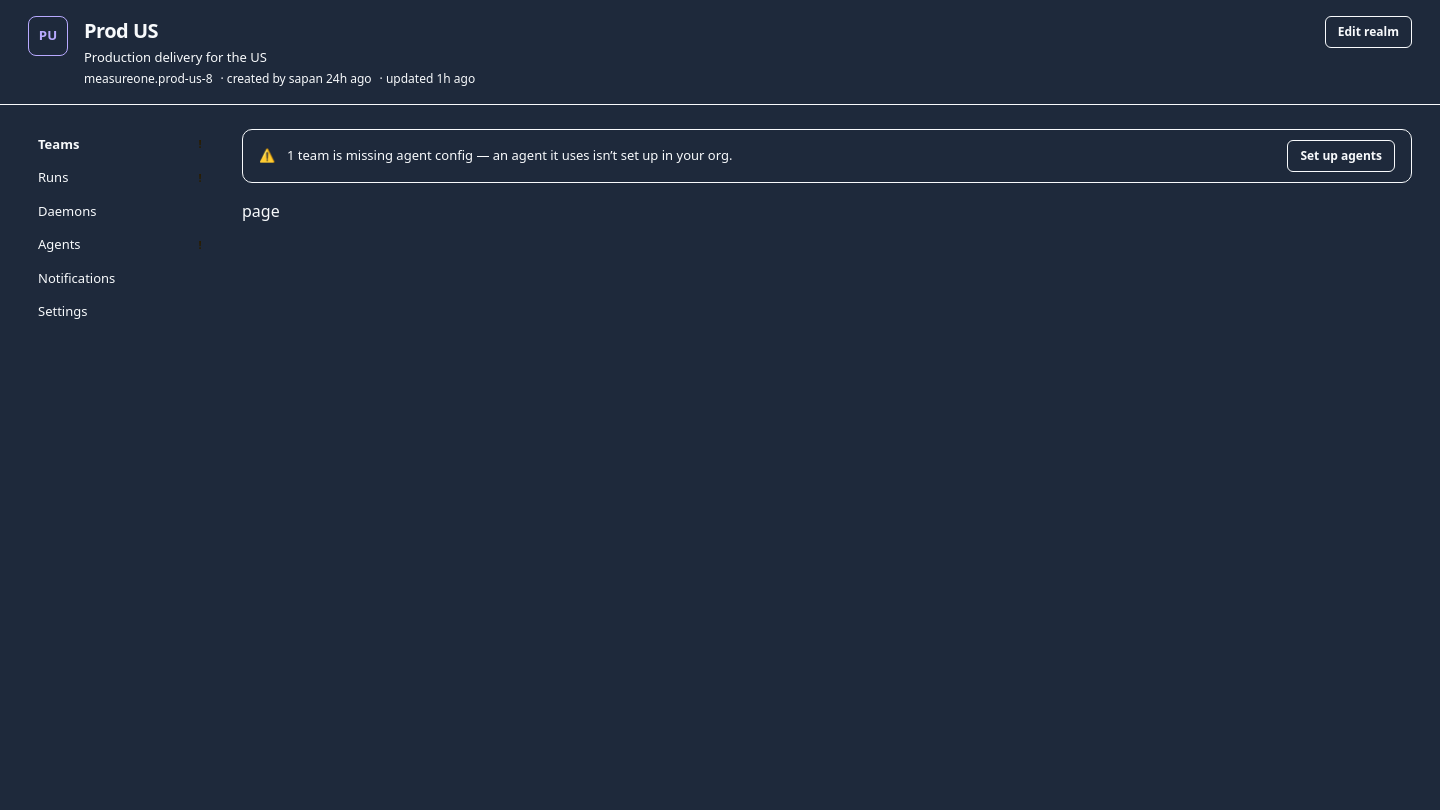
Test case: Realm layout › Edit realm opens the Realm details side panel: name and description saved together in one realms/update
Click the button "Edit realm".
click(1368, 32)  # box [1325,16,1412,48]
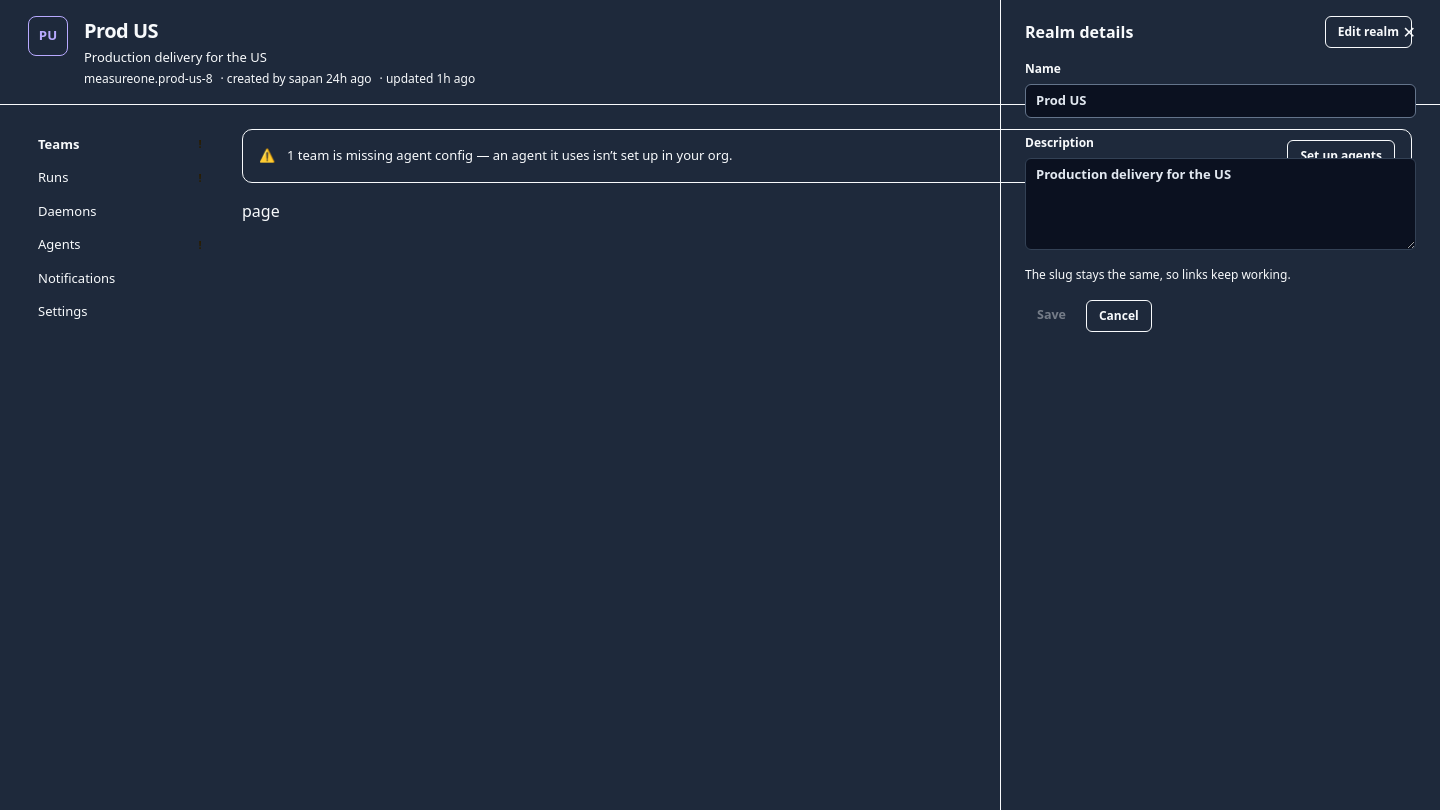
Replace the text in the field labelled "Name" with "Production US" at (1220, 101), box [1025,84,1416,118]
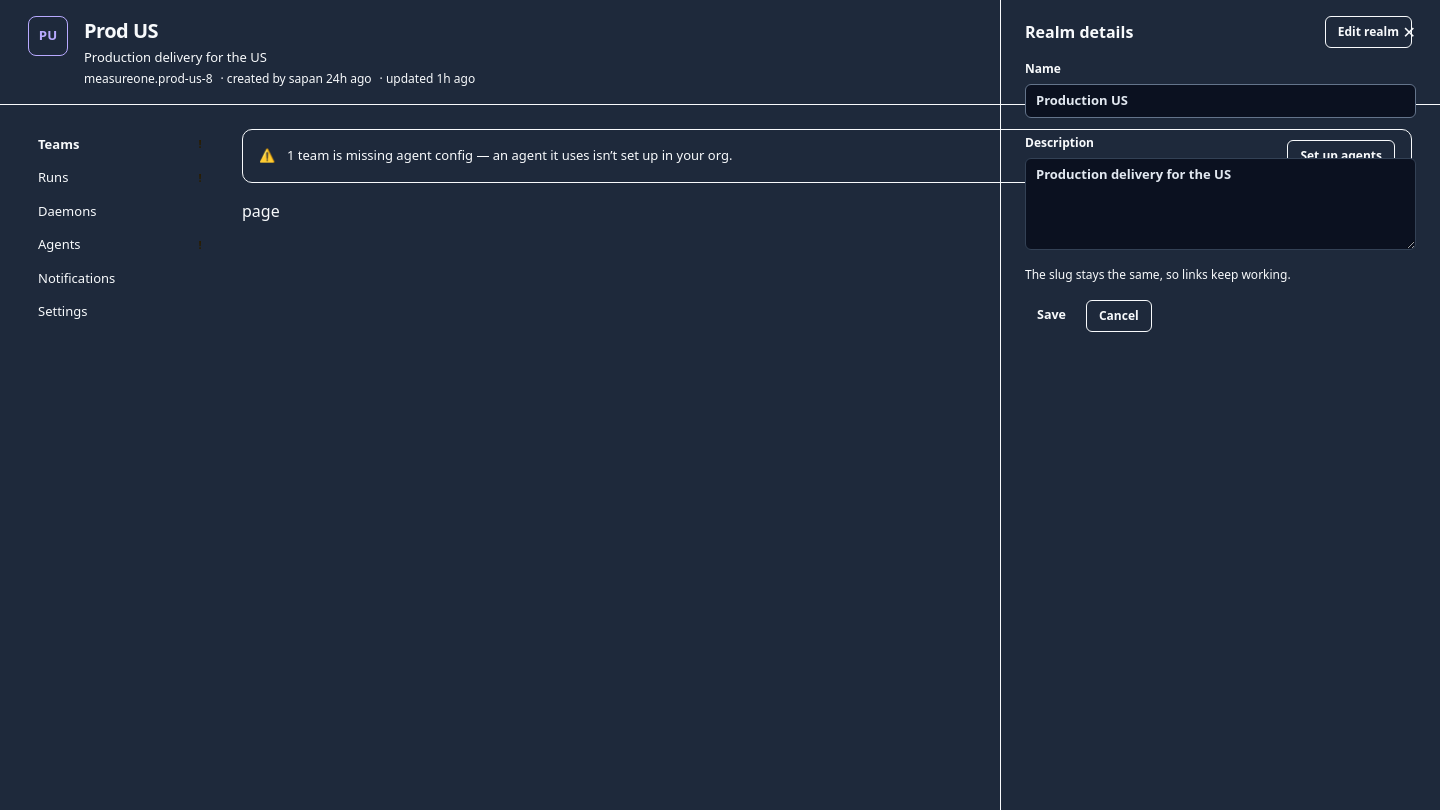
Replace the text in the text box labelled "Description" with "US delivery" at (1220, 204), box [1025,158,1416,250]
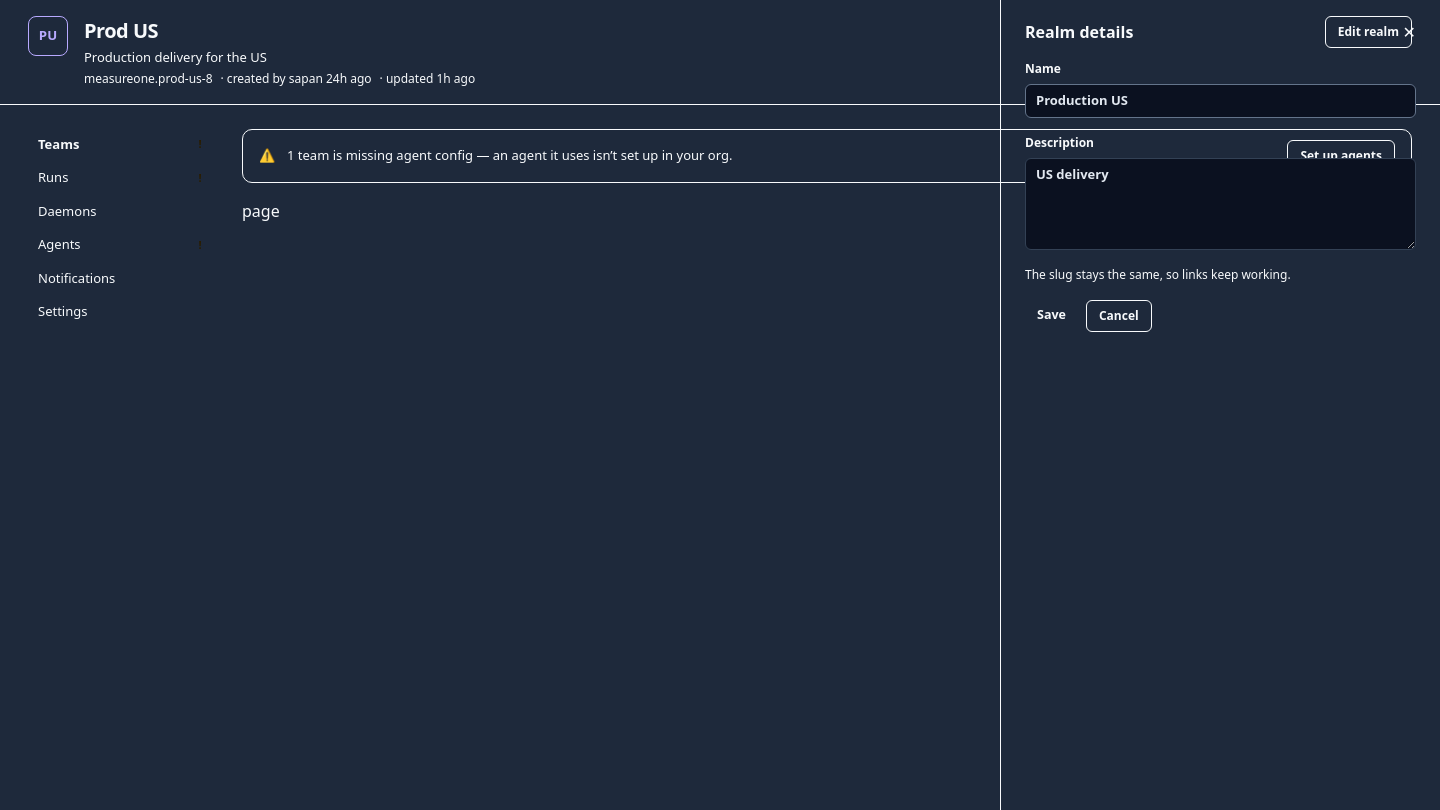
Click the button "Save".
click(1052, 316)  # box [1025,300,1078,332]
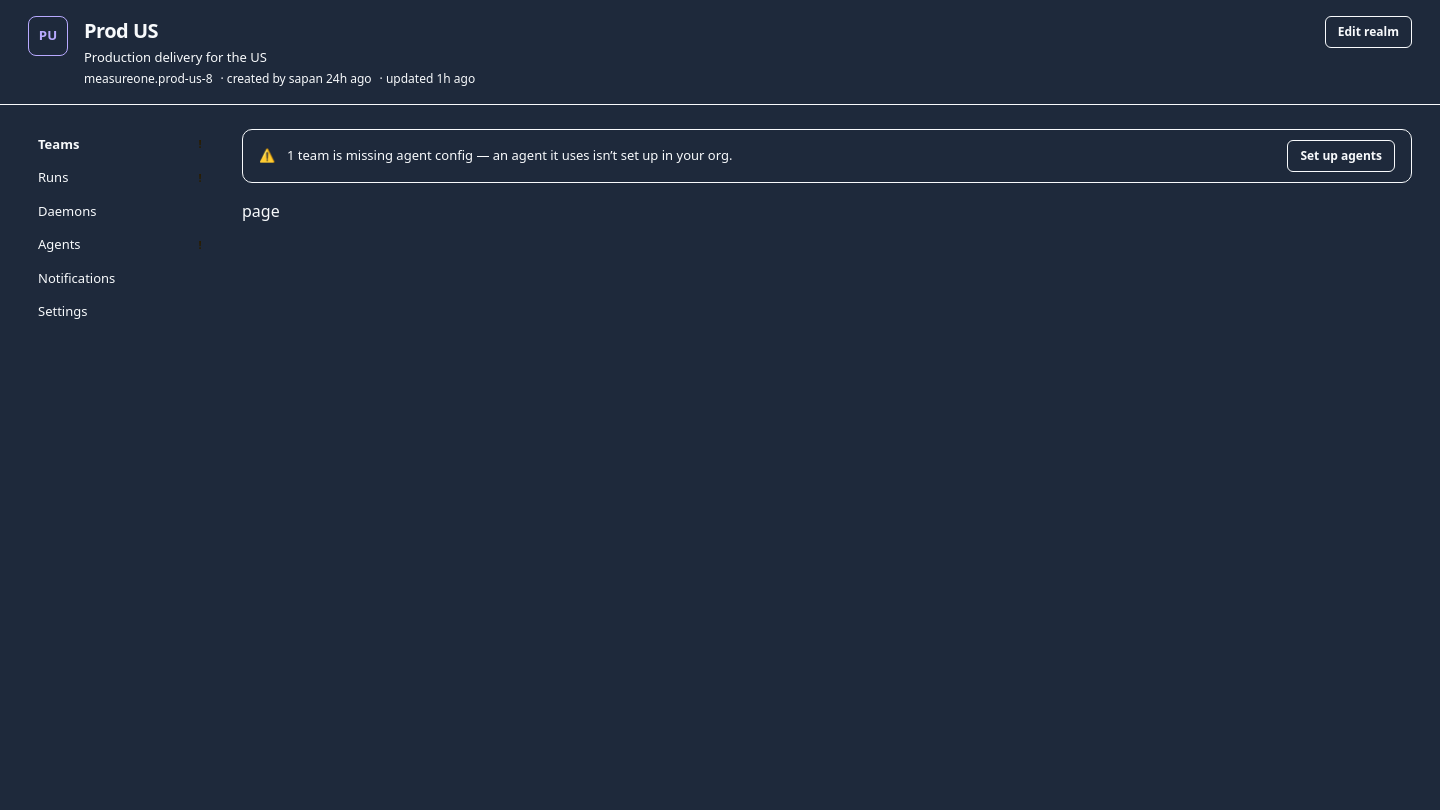
Result: the heading "Realm details" is gone
